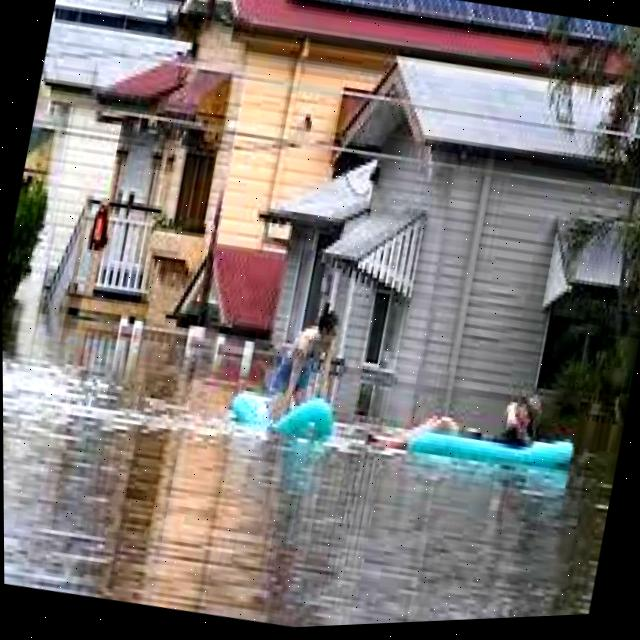civilian: (414, 371, 556, 460), (271, 301, 350, 413)
